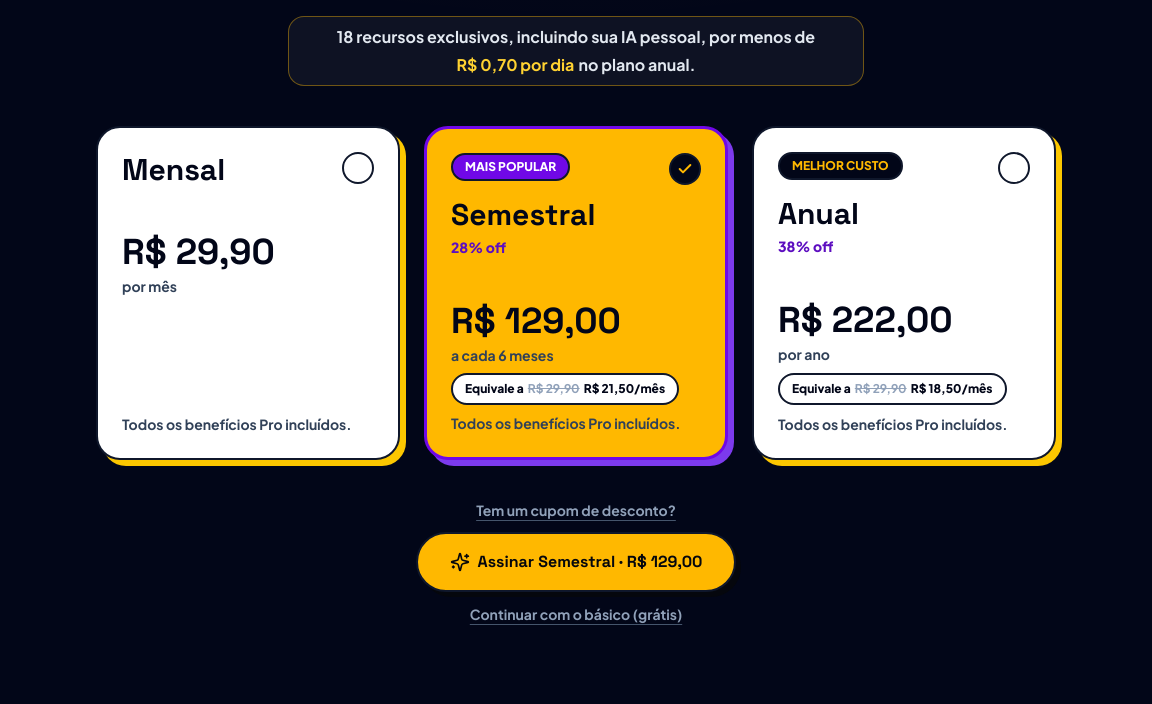
Test case: campo de cupom do checkout: codigo de creator (lote 11b) › codigo que nao existe em nenhuma das duas tabelas continua invalido
(page scrolled)
Click the button "Tem um cupom de desconto?" at (576, 510), box 476,500 -> 676,520
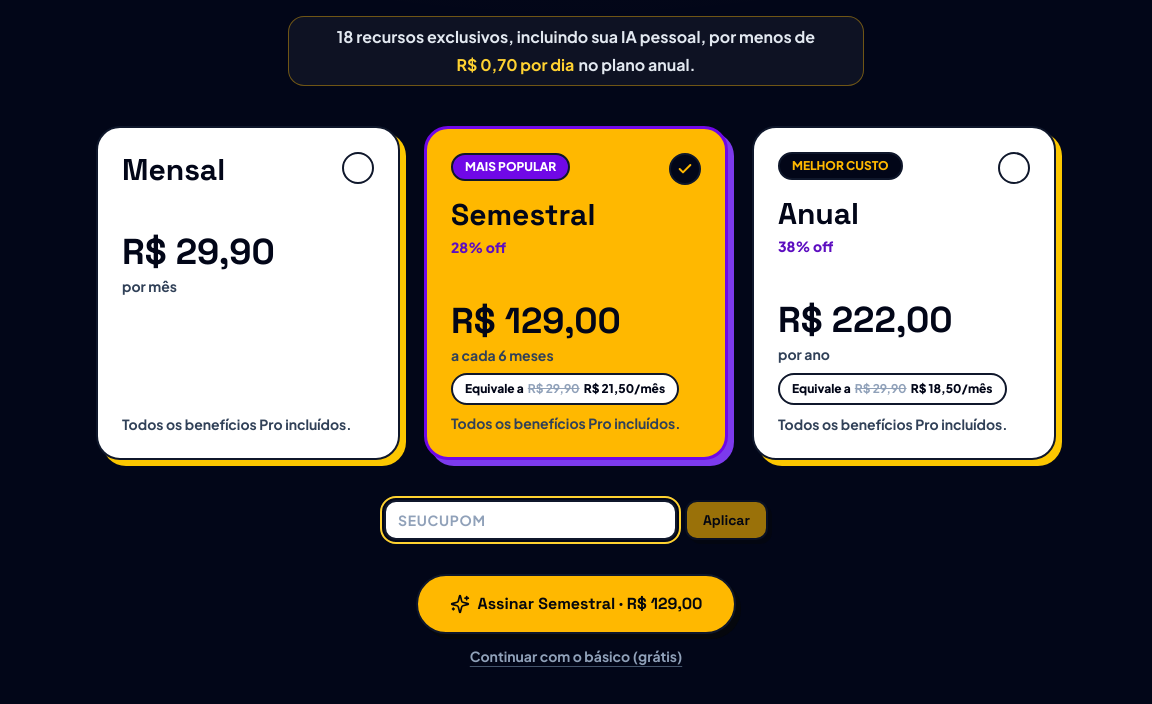
Type "NAOEXISTE" into the field named "Código do cupom" at (530, 520), box 384,500 -> 677,540
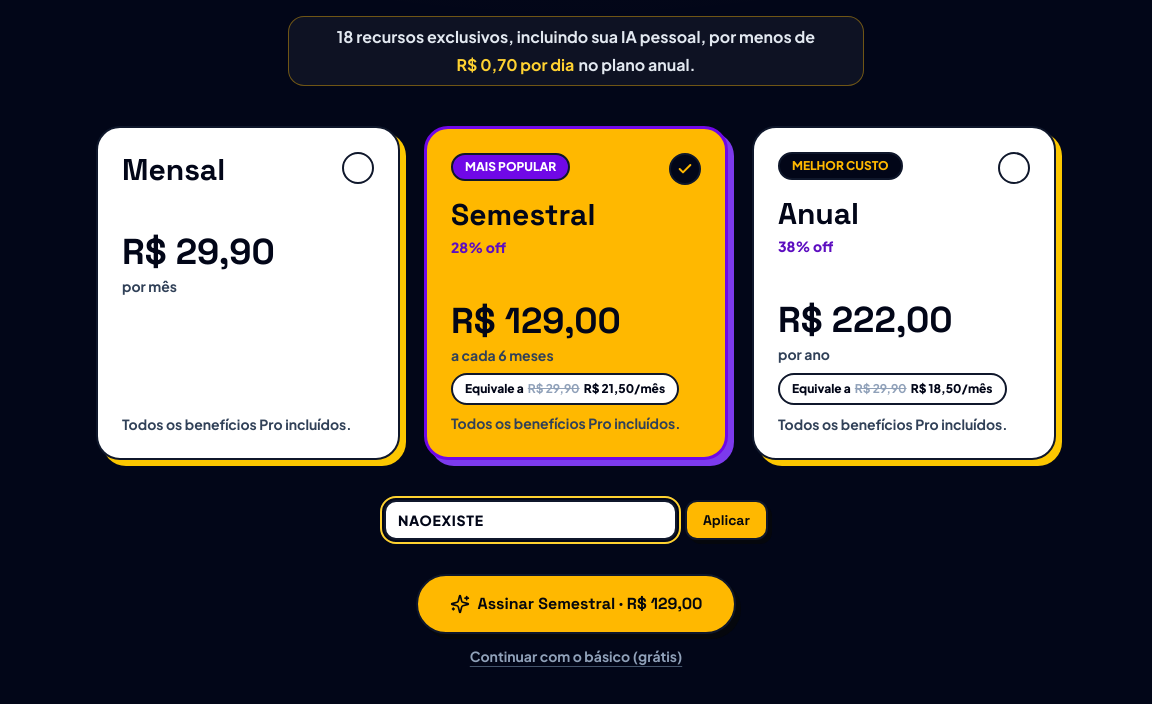
Click the button "Aplicar" at (726, 520), box 685,500 -> 768,540
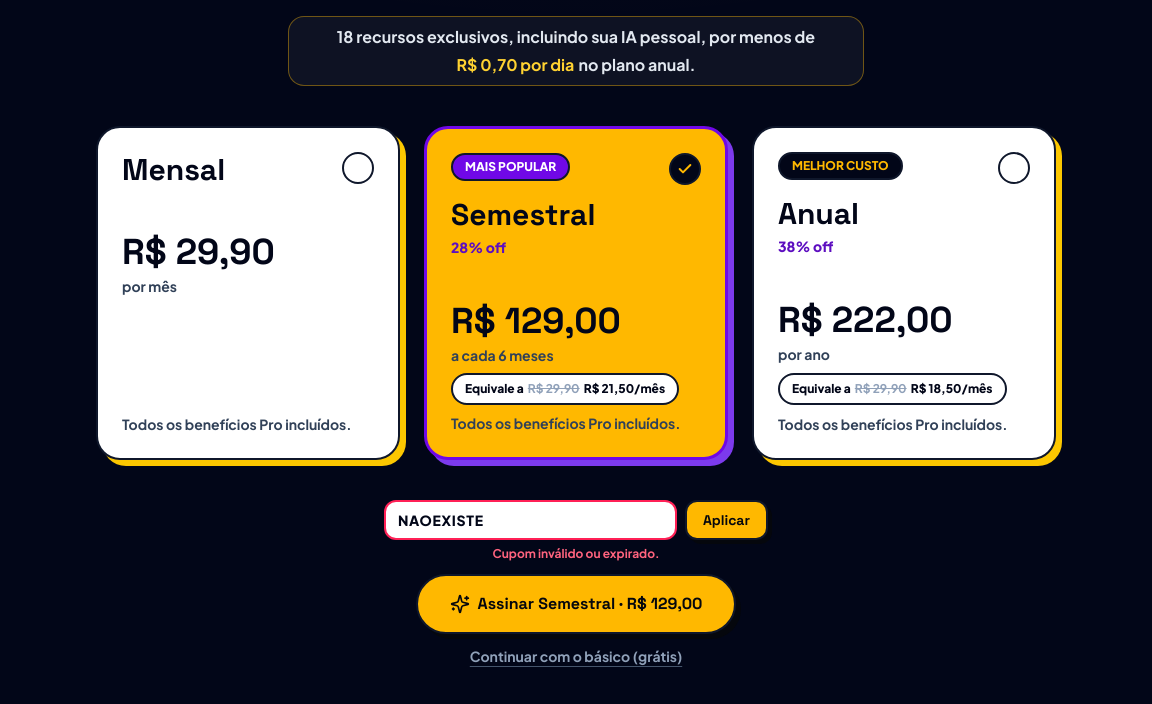
Check: the text "Cupom inválido ou expirado." is shown, box 492,546 -> 660,562
